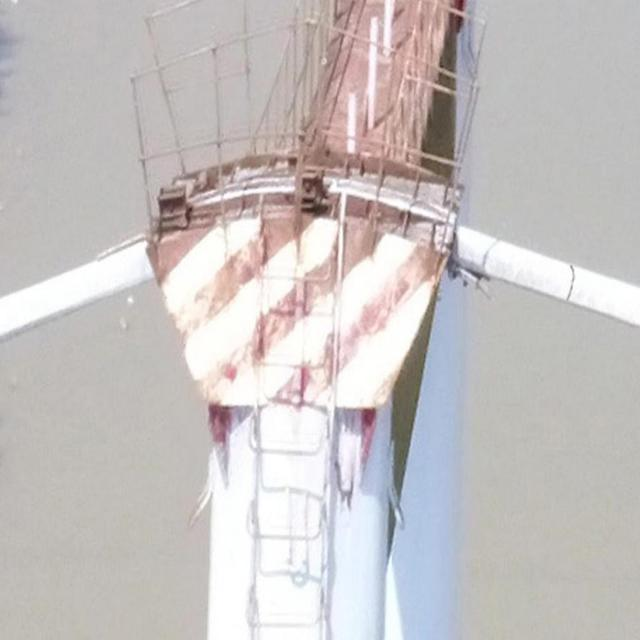crack: (564, 264, 576, 302)
